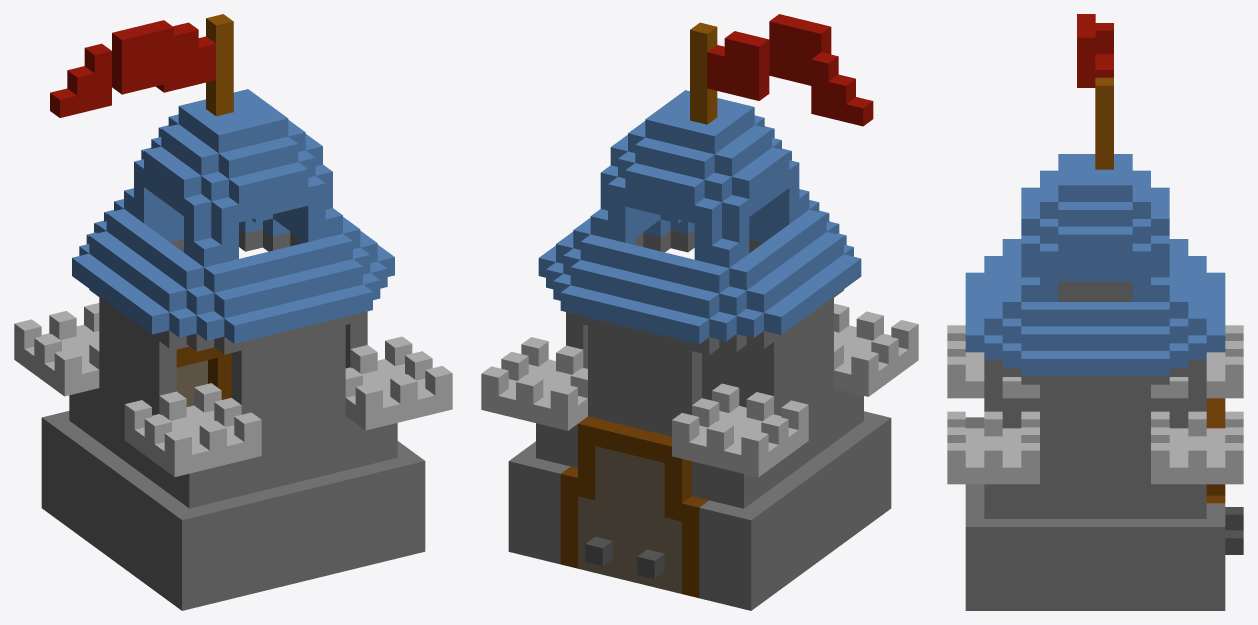
Rendered from CastleVoxel.obj.
3 renders of one model, left to right at view 1: azimuth 30°, elevation 25°; view 2: azimuth 150°, elevation 25°; view 3: azimuth 270°, elevation 25°, orthographic. The views are drawn at different scales.
Bounding box in the file's own units: 18 × 29 × 16.
